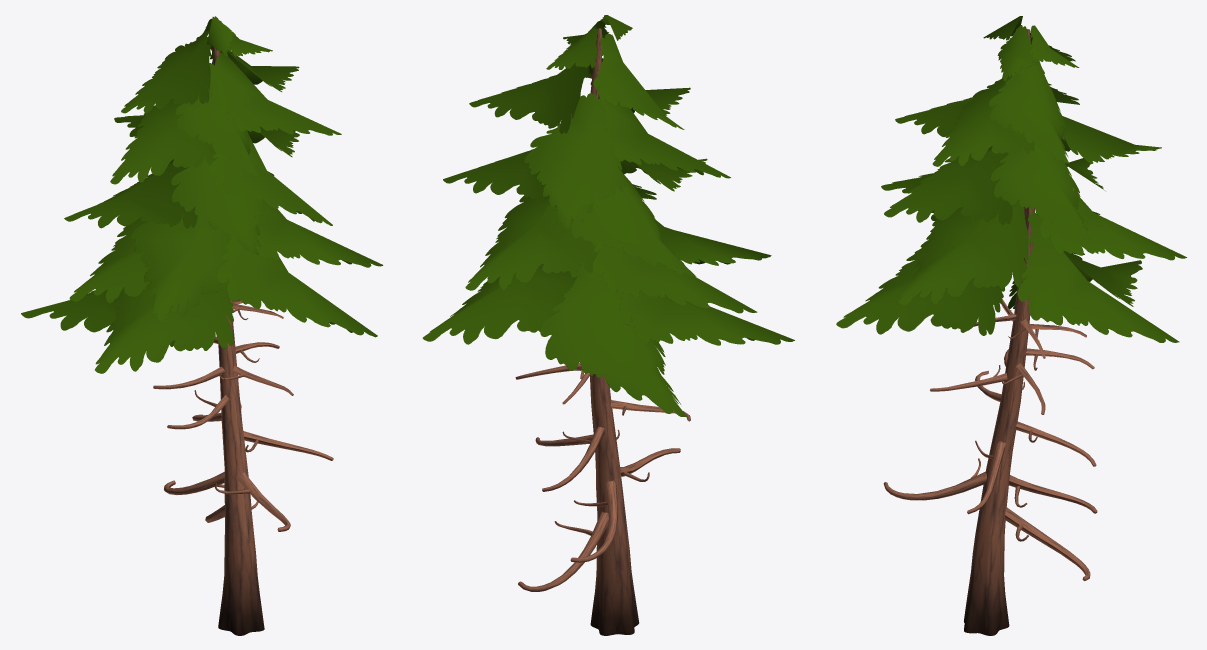
Rendered from Pine_3.gltf.
3 views of the same model, side by side, from view 1: azimuth 30°, elevation 25°; view 2: azimuth 150°, elevation 25°; view 3: azimuth 270°, elevation 25° (orthographic). The views are drawn at different scales.
Visible parts, largest first — view 1: Pine_3; view 2: Pine_3; view 3: Pine_3.
Part boxes in pixels (box(x1,y1,x2,y2)): Pine_3: box(21, 16, 383, 635); Pine_3: box(422, 15, 794, 635); Pine_3: box(836, 16, 1186, 635).
Size of the model in its own units: 3.61 by 7.39 by 4.
Materials: 2 (2 with a texture image).
